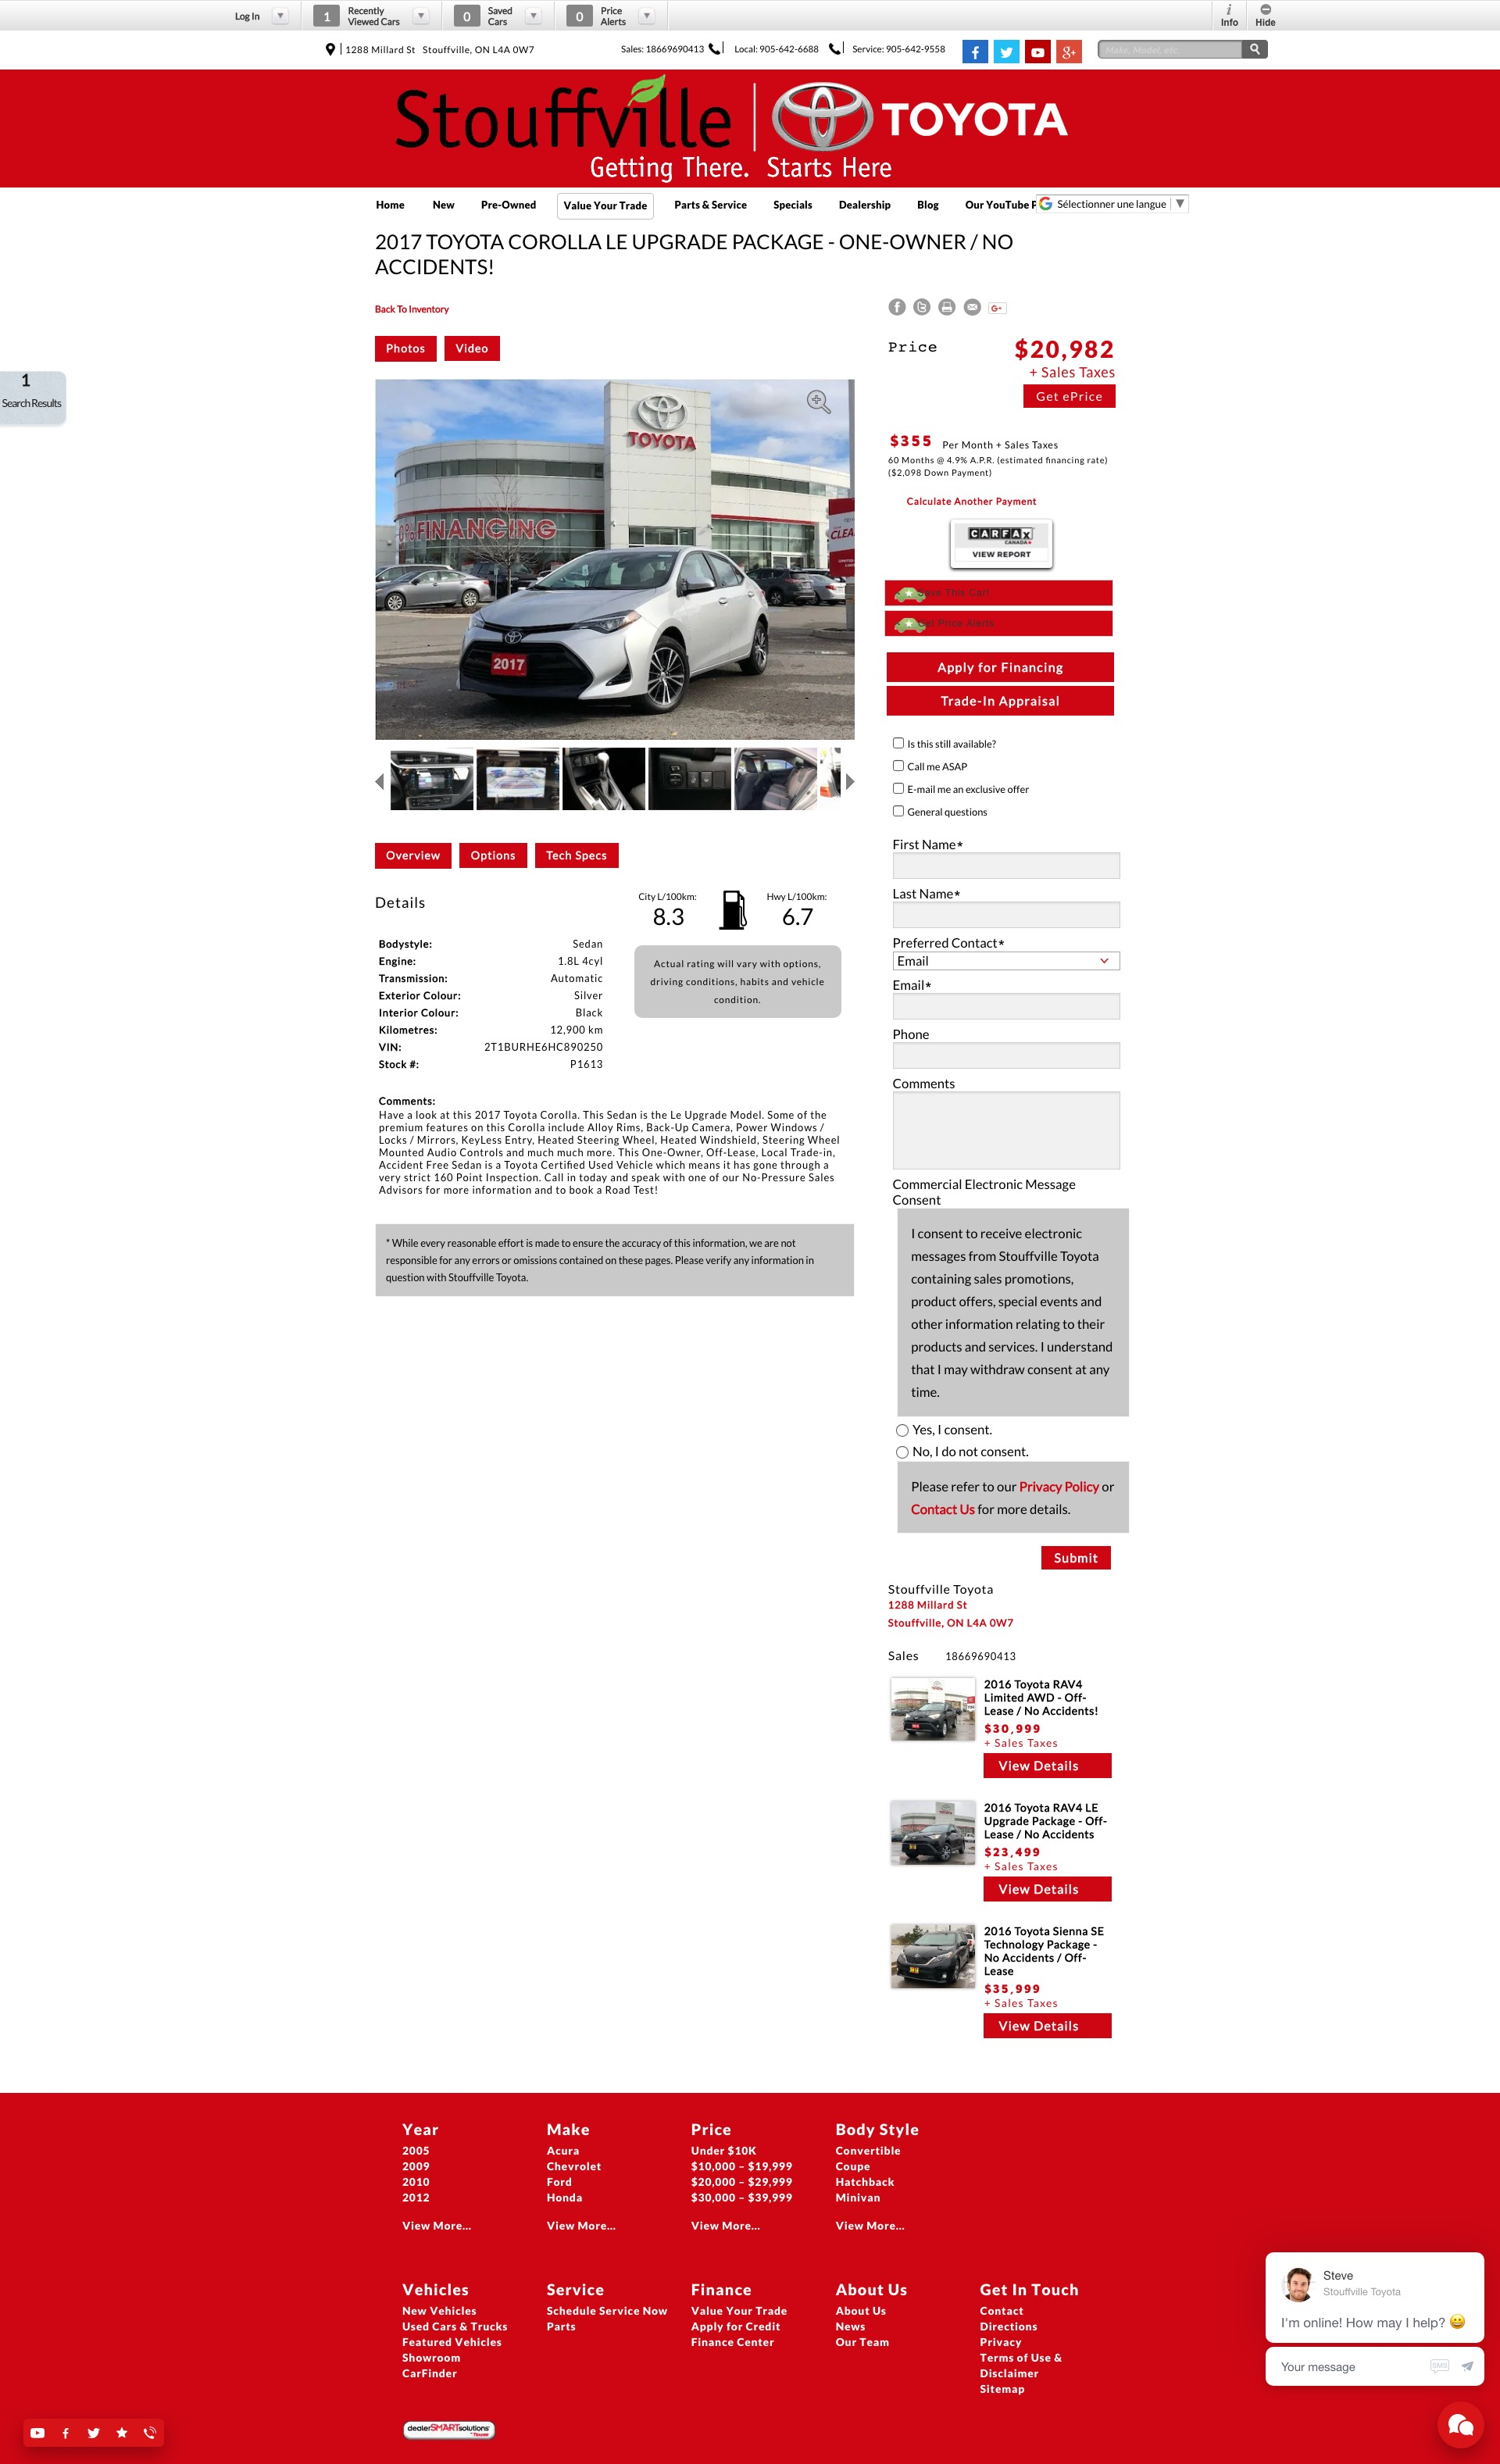car: (847, 773, 856, 792)
